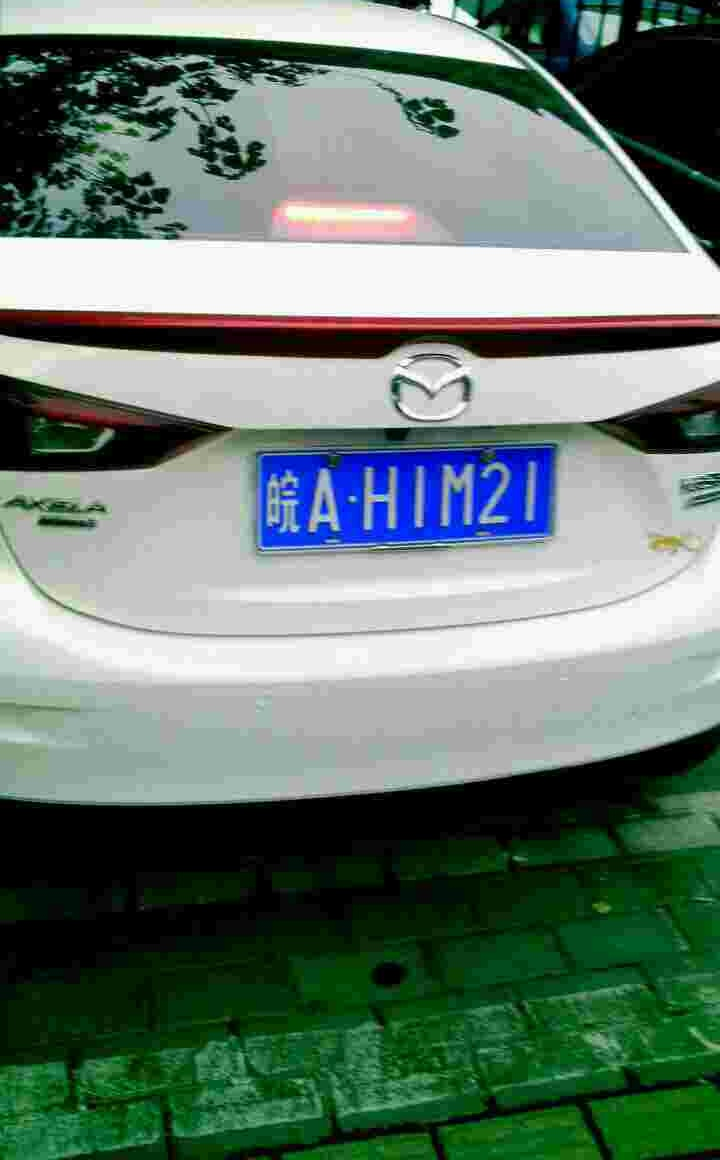license_plate: (249, 442, 565, 561)
